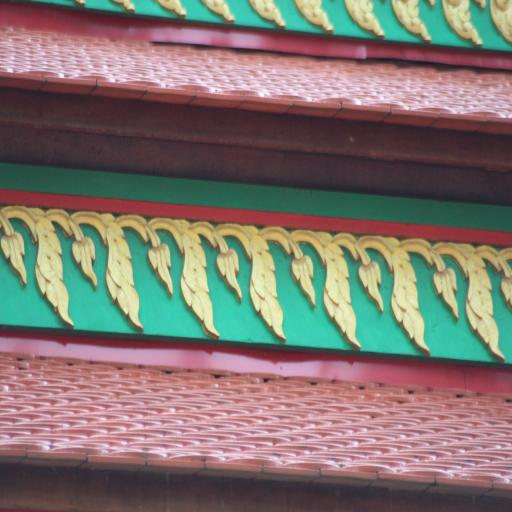la: (365, 226, 461, 358), (219, 208, 308, 346), (148, 207, 233, 346), (0, 208, 99, 326), (68, 194, 152, 326), (293, 225, 385, 344), (446, 238, 512, 364)
